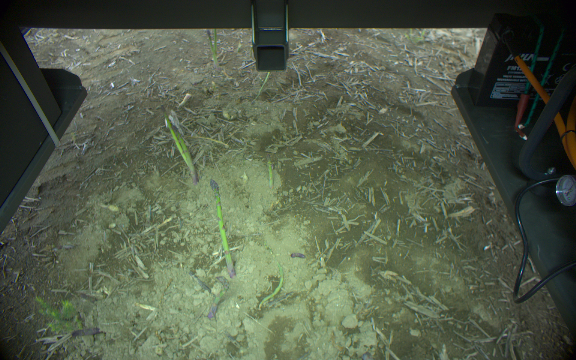aspa: (207, 178, 235, 279), (156, 103, 187, 164), (170, 123, 200, 183), (257, 259, 284, 308), (208, 276, 230, 319), (202, 30, 218, 70), (71, 323, 103, 337), (264, 151, 275, 187), (212, 28, 218, 46)
